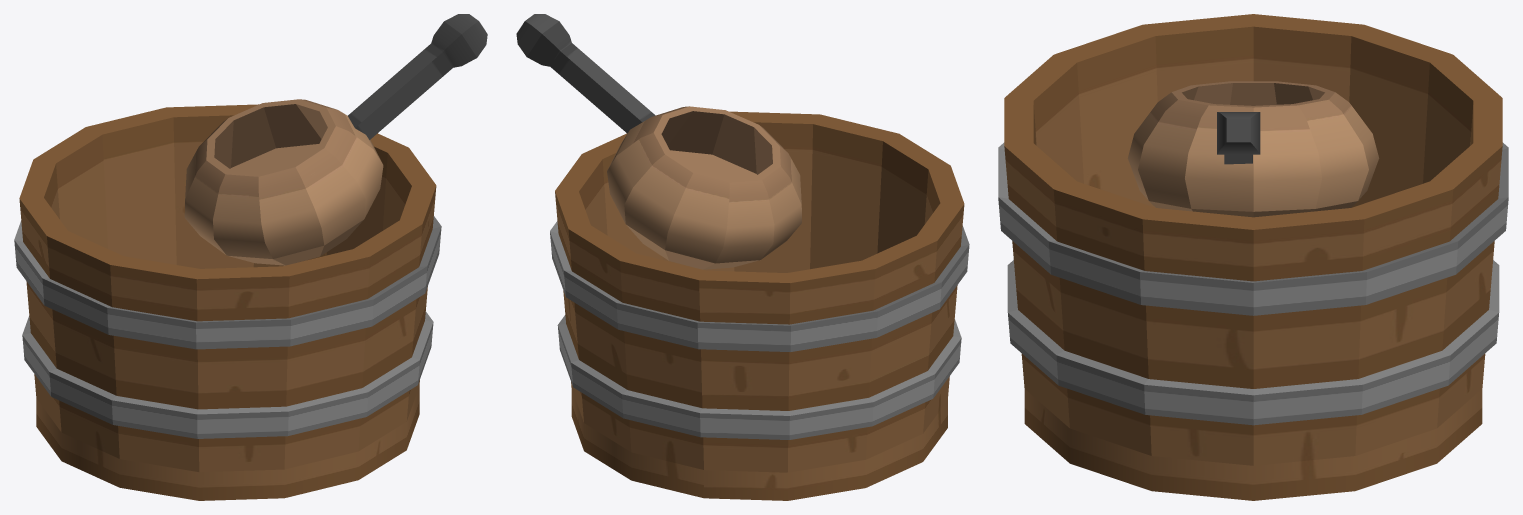
File: OliveBucketSpadeYas.fbx
3 renders of one model, left to right at view 1: azimuth 30°, elevation 25°; view 2: azimuth 150°, elevation 25°; view 3: azimuth 270°, elevation 25°, orthographic. The views are drawn at different scales.
Parts seen in each view (by area): view 1: pCylinder2, pCylinder3, pCube1; view 2: pCylinder2, pCylinder3, pCube1; view 3: pCylinder2, pCylinder3, pCube1.
Boxes of the visible parts, x1,y1,x2,y2 form: pCylinder2: [14, 104, 441, 500]; pCylinder3: [184, 99, 383, 265]; pCube1: [348, 14, 487, 139]; pCylinder2: [550, 111, 969, 500]; pCylinder3: [607, 106, 801, 269]; pCube1: [516, 14, 655, 133]; pCylinder2: [998, 14, 1508, 500]; pCylinder3: [1127, 81, 1379, 217]; pCube1: [1217, 112, 1260, 164].
Size of the model in its own units: 8.67 by 6.66 by 7.22.
